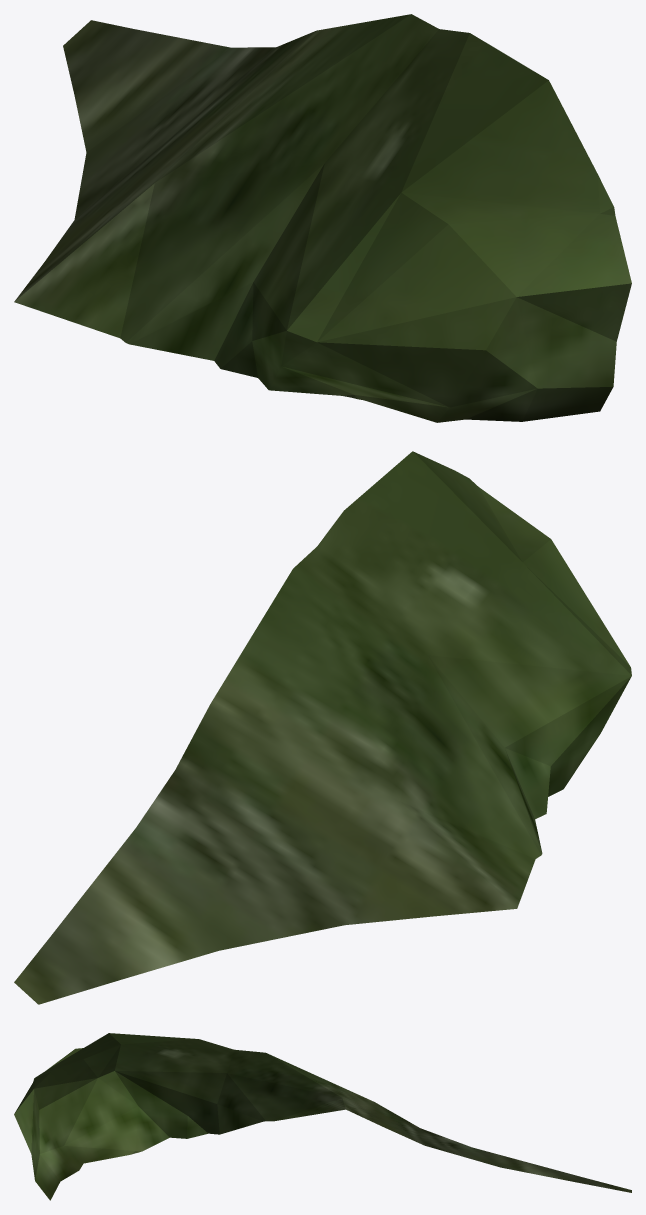
3 views of the same model, one above another, from view 1: azimuth 30°, elevation 25°; view 2: azimuth 150°, elevation 25°; view 3: azimuth 270°, elevation 25° (orthographic). The views are drawn at different scales.
Size of the model in its own units: 0.4308 by 0.3693 by 1.23.
Materials: 1 (1 with a texture image).
